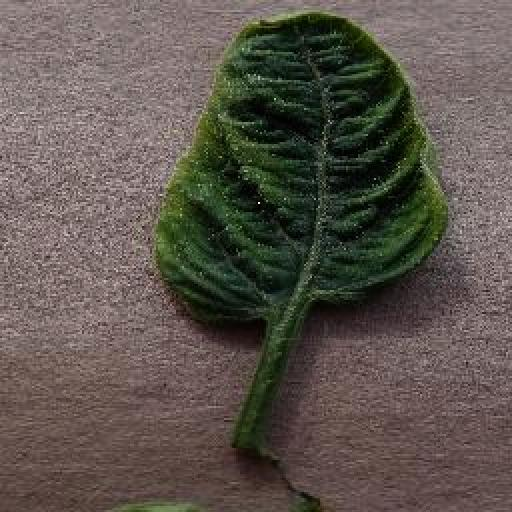disease_tomato: (154, 9, 450, 327)
